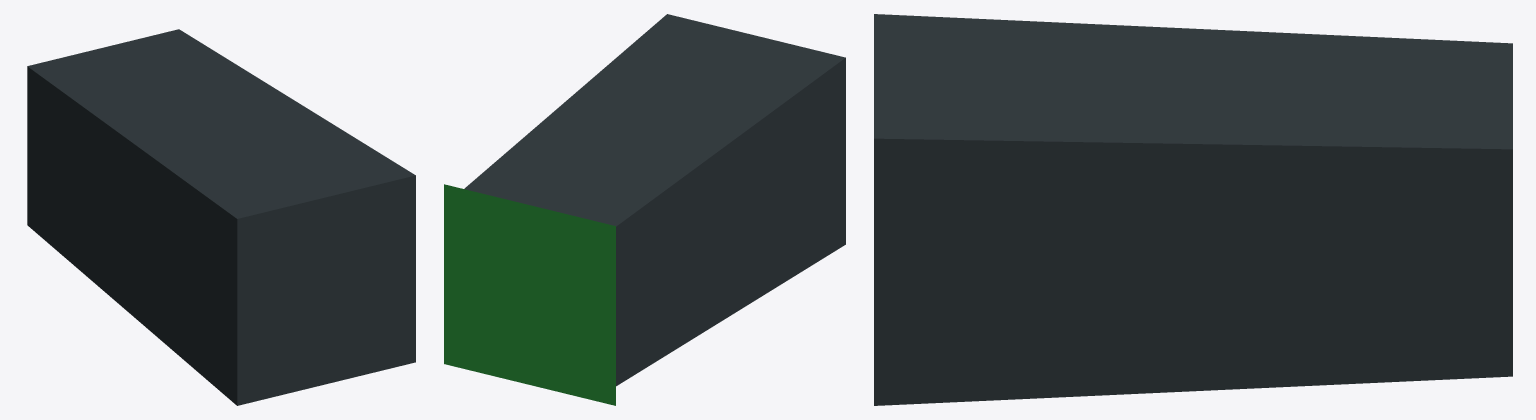
3 renders of one model, left to right at view 1: azimuth 30°, elevation 25°; view 2: azimuth 150°, elevation 25°; view 3: azimuth 270°, elevation 25°, orthographic. The views are drawn at different scales.
Parts seen in each view (by area): view 1: mount; view 2: mount; view 3: mount.
Boxes of the visible parts, x1,y1,x2,y2 form: mount: (27,29,415,405); mount: (444,14,845,405); mount: (874,14,1512,405).
Size of the model in its own units: 0.9899 by 0.9899 by 2.17.
